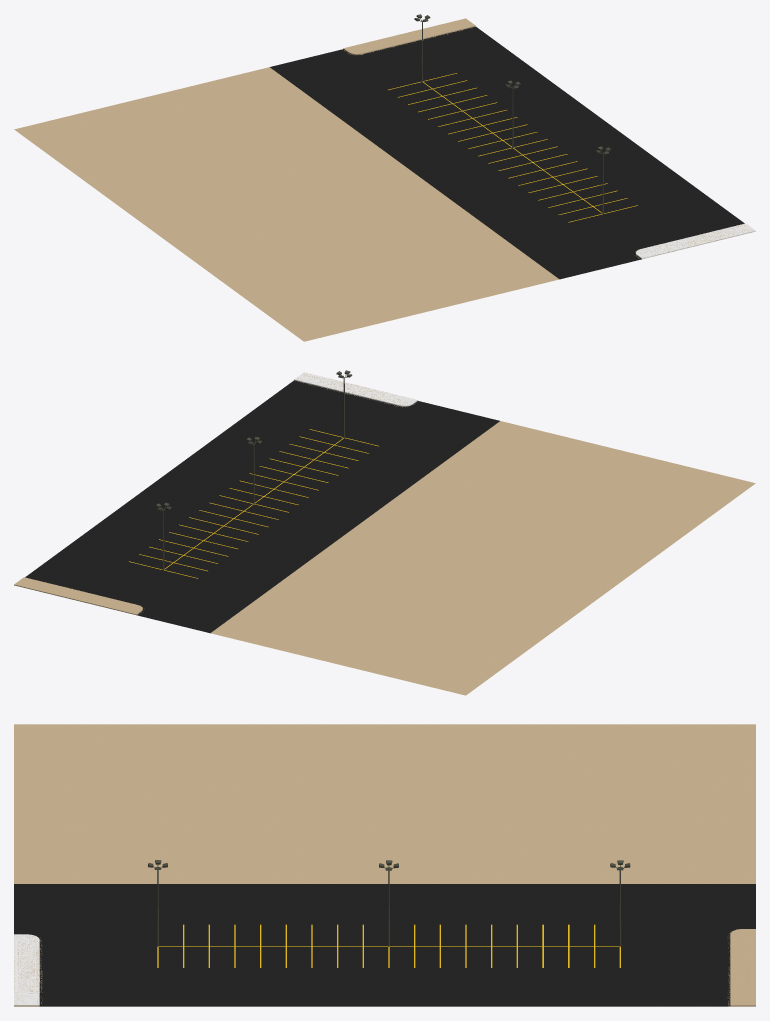
The picture shows the model from 3 angles, top to bottom: view 1: azimuth 30°, elevation 25°; view 2: azimuth 150°, elevation 25°; view 3: azimuth 270°, elevation 25°; orthographic projection. The views are drawn at different scales.
Visible parts, largest first — view 1: SketchUp (×4); view 2: SketchUp (×4); view 3: SketchUp (×4).
Part boxes in pixels (left/top/right/bottom): SketchUp (×4): left=14, top=19, right=754, bottom=341; SketchUp (×4): left=15, top=372, right=755, bottom=695; SketchUp (×4): left=14, top=724, right=755, bottom=1006.
Size of the model in its own units: 2469 by 2746 by 337.
Materials: 9 (8 with a texture image).
